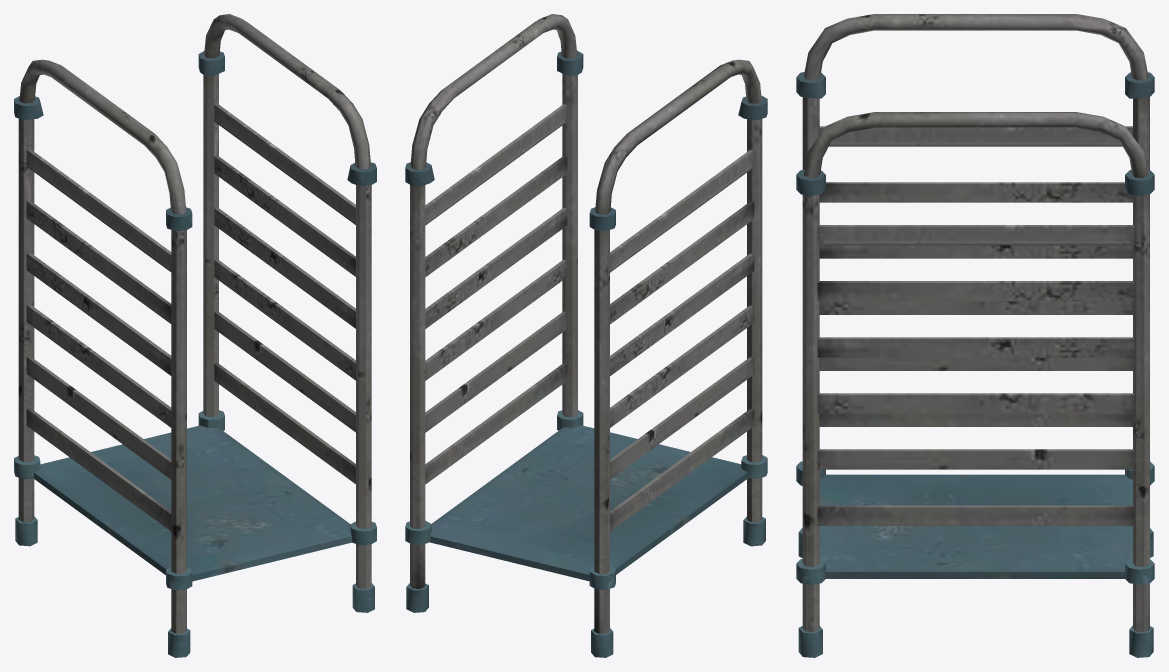
Rendered from kitchen_shelf002a.glb.
The picture shows the model from 3 angles, left to right: view 1: azimuth 30°, elevation 25°; view 2: azimuth 150°, elevation 25°; view 3: azimuth 270°, elevation 25°; orthographic projection. The views are drawn at different scales.
Parts seen in each view (by area): view 1: 0_kitchen_shelf001a; view 2: 0_kitchen_shelf001a; view 3: 0_kitchen_shelf001a.
Part boxes in pixels (left/top/right/bottom): 0_kitchen_shelf001a: left=14, top=14, right=376, bottom=657; 0_kitchen_shelf001a: left=405, top=14, right=767, bottom=657; 0_kitchen_shelf001a: left=796, top=14, right=1154, bottom=657.
Bounding box in the file's own units: 0.8045 × 1.84 × 1.11.
Materials: 1 (1 with a texture image).
